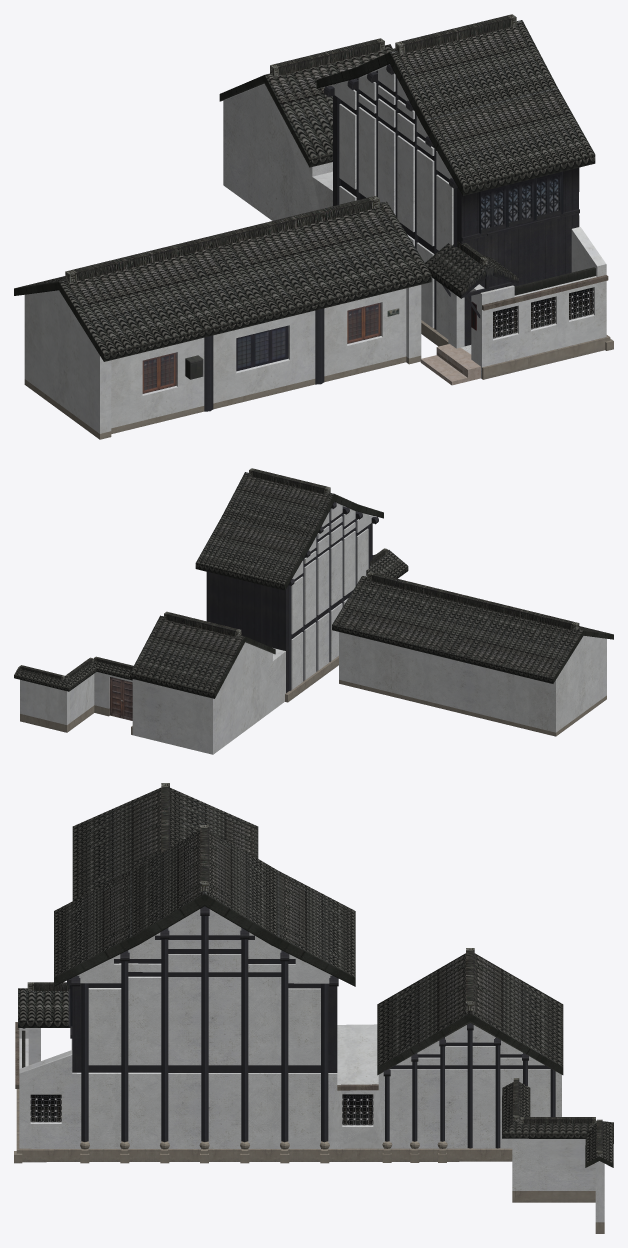
File: Building_Chukou.FBX
3 views of the same model, one above another, from view 1: azimuth 30°, elevation 25°; view 2: azimuth 150°, elevation 25°; view 3: azimuth 270°, elevation 25° (orthographic). The views are drawn at different scales.
Visible parts, largest first — view 1: Building_Chukou; view 2: Building_Chukou; view 3: Building_Chukou.
Boxes of the visible parts, left/top/right/bottom form: Building_Chukou: left=14, top=14, right=613, bottom=439; Building_Chukou: left=14, top=468, right=613, bottom=754; Building_Chukou: left=14, top=783, right=613, bottom=1233.
Size of the model in its own units: 2220 by 906 by 1785.
